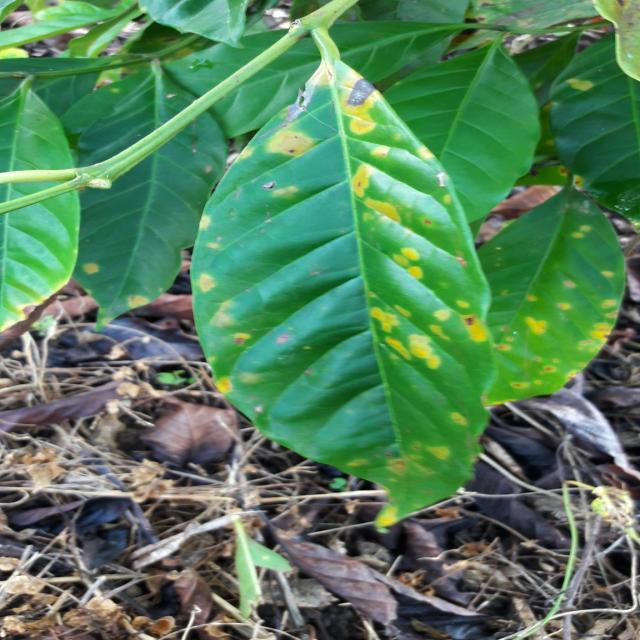Enfermedad-Roya: (192, 59, 529, 522)
